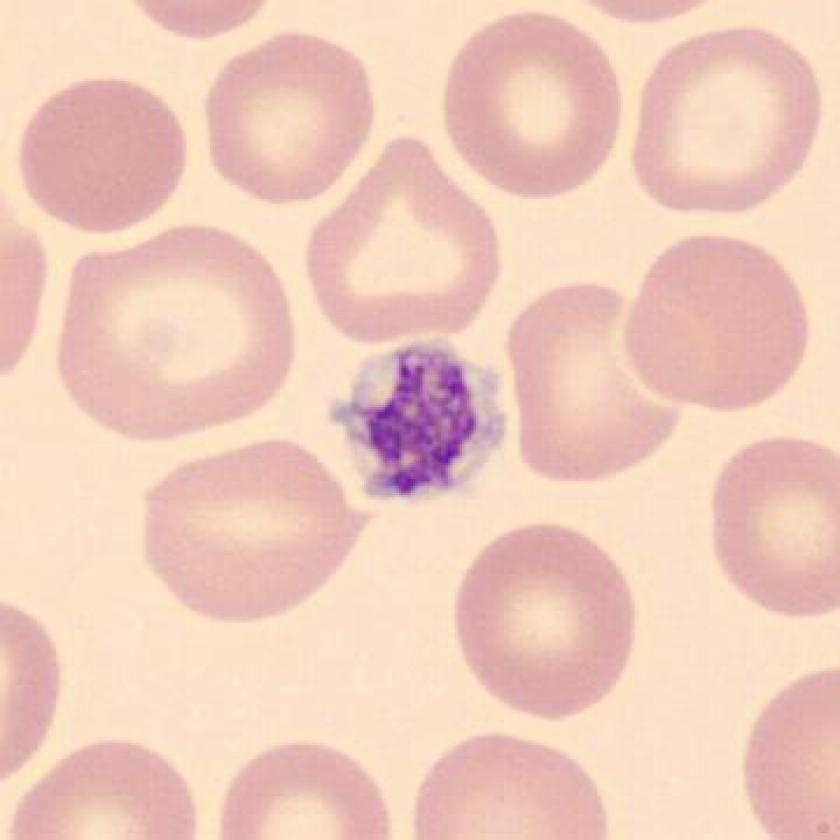platelets: (314, 323, 531, 526)
